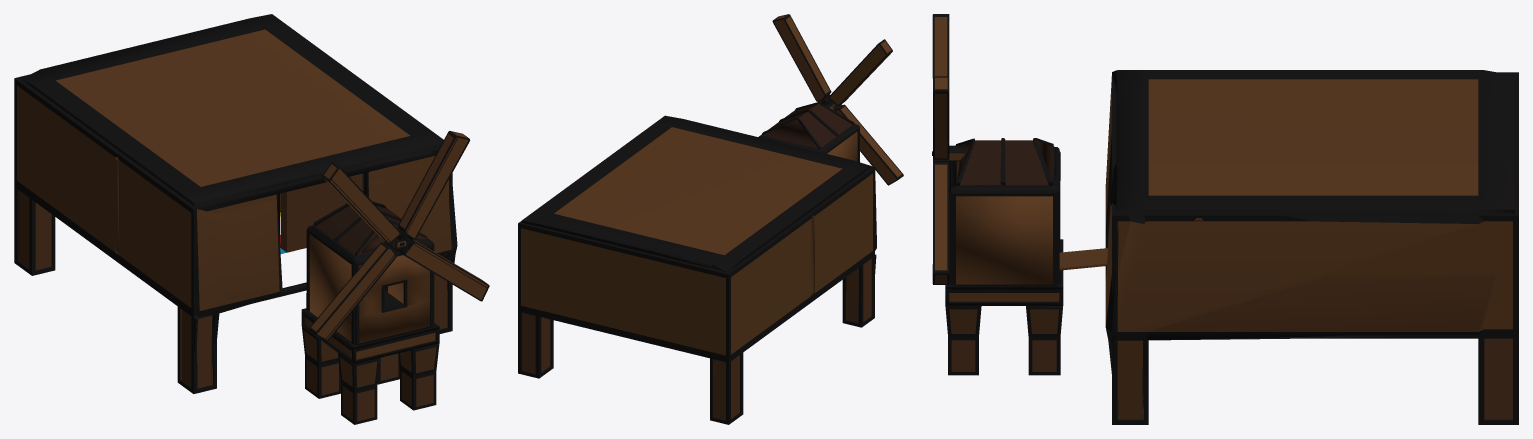
Rendered from mill.obj.
3 views of the same model, side by side, from view 1: azimuth 30°, elevation 25°; view 2: azimuth 150°, elevation 25°; view 3: azimuth 270°, elevation 25° (orthographic). The views are drawn at different scales.
Parts seen in each view (by area): view 1: MazeRoom, Legs, BodyFaces, Blade1, Blade3, BodyFrames, Roof, MilBase, Blade4, Blade2; view 2: MazeRoom, Roof, Blade1, Blade3, Blade4, BodyFrames, BodyFaces; view 3: MazeRoom, BodyFaces, Legs, Roof, BodyFrames, Blade2, MilBase, Blade1, Blade4, Backdoor.
Boxes of the visible parts, box(x1,y1,x2,y2) form: MazeRoom: box(14, 14, 457, 393); Legs: box(302, 326, 439, 424); BodyFaces: box(310, 234, 429, 343); Blade1: box(397, 131, 470, 241); Blade3: box(308, 242, 400, 341); BodyFrames: box(301, 208, 439, 349); Roof: box(313, 201, 427, 255); MilBase: box(301, 291, 439, 363); Blade4: box(322, 162, 401, 245); Blade2: box(399, 239, 489, 301); MazeRoom: box(518, 115, 876, 424); Roof: box(762, 102, 854, 148); Blade1: box(772, 14, 831, 102); Blade3: box(833, 104, 903, 185); Blade4: box(828, 39, 892, 106); BodyFrames: box(758, 110, 859, 162); BodyFaces: box(827, 131, 857, 161); MazeRoom: box(1105, 70, 1518, 424); BodyFaces: box(956, 196, 1052, 284); Legs: box(945, 306, 1062, 375); Roof: box(956, 138, 1053, 185); BodyFrames: box(945, 145, 1063, 289); Blade2: box(932, 159, 949, 284); MilBase: box(945, 289, 1063, 305); Blade1: box(933, 76, 949, 159); Blade4: box(932, 14, 949, 78); Backdoor: box(1059, 248, 1107, 270).
Size of the model in its own units: 32.65 by 32 by 55.39.
